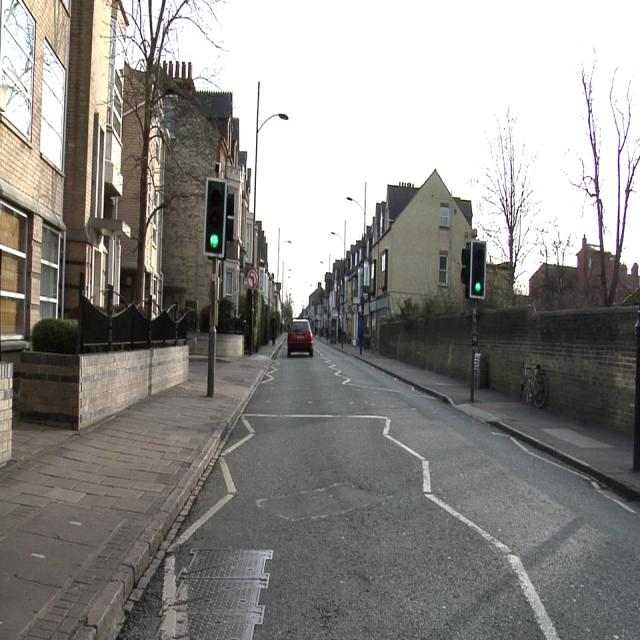Building: (0, 0, 142, 359), (303, 172, 474, 346), (141, 60, 251, 313), (255, 223, 274, 305)
Car: (288, 320, 313, 355)
Road: (119, 343, 637, 638)
Tree: (117, 0, 224, 252), (476, 108, 574, 299), (569, 57, 640, 306)
